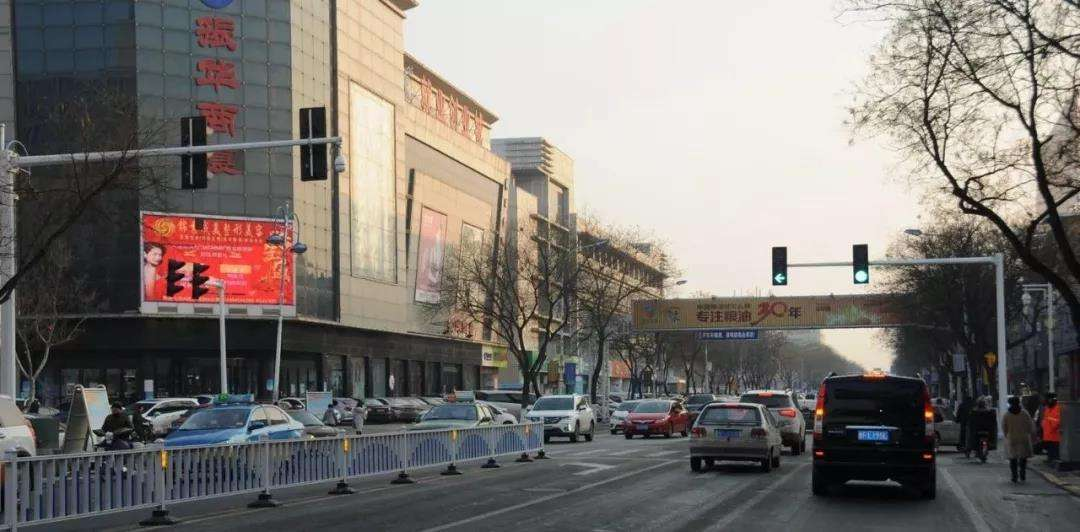green: (766, 244, 793, 292), (849, 242, 872, 290)
